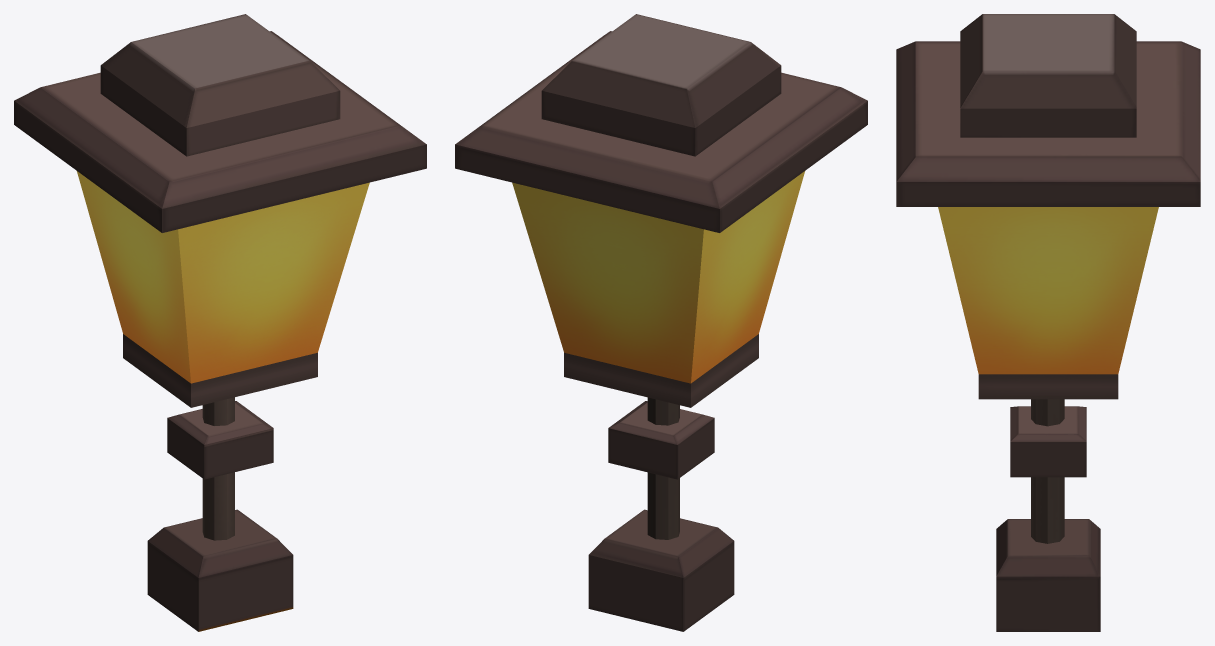
File: Ceshichangji_LuDeng_01.FBX
The picture shows the model from 3 angles, left to right: view 1: azimuth 30°, elevation 25°; view 2: azimuth 150°, elevation 25°; view 3: azimuth 270°, elevation 25°; orthographic projection. The views are drawn at different scales.
Visible parts, largest first — view 1: Object011; view 2: Object011; view 3: Object011.
Part boxes in pixels (x1,y1,x2,y2): Object011: (14, 14, 426, 631); Object011: (455, 14, 867, 631); Object011: (896, 14, 1200, 631).
Size of the model in its own units: 174 by 345 by 168.
